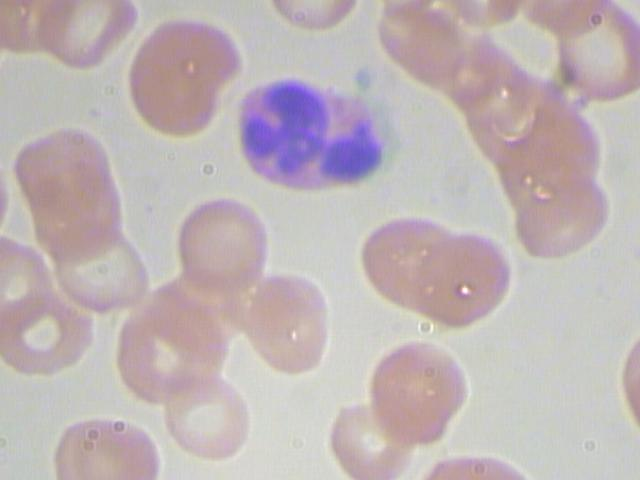RBC: (123, 15, 249, 147), (364, 336, 473, 448), (240, 265, 349, 377), (159, 368, 263, 465), (9, 127, 116, 220), (173, 194, 270, 292), (359, 214, 456, 312), (415, 230, 512, 328), (512, 167, 609, 265), (1, 284, 97, 382), (52, 230, 156, 316), (50, 407, 168, 477), (32, 1, 139, 72), (322, 396, 410, 480)
